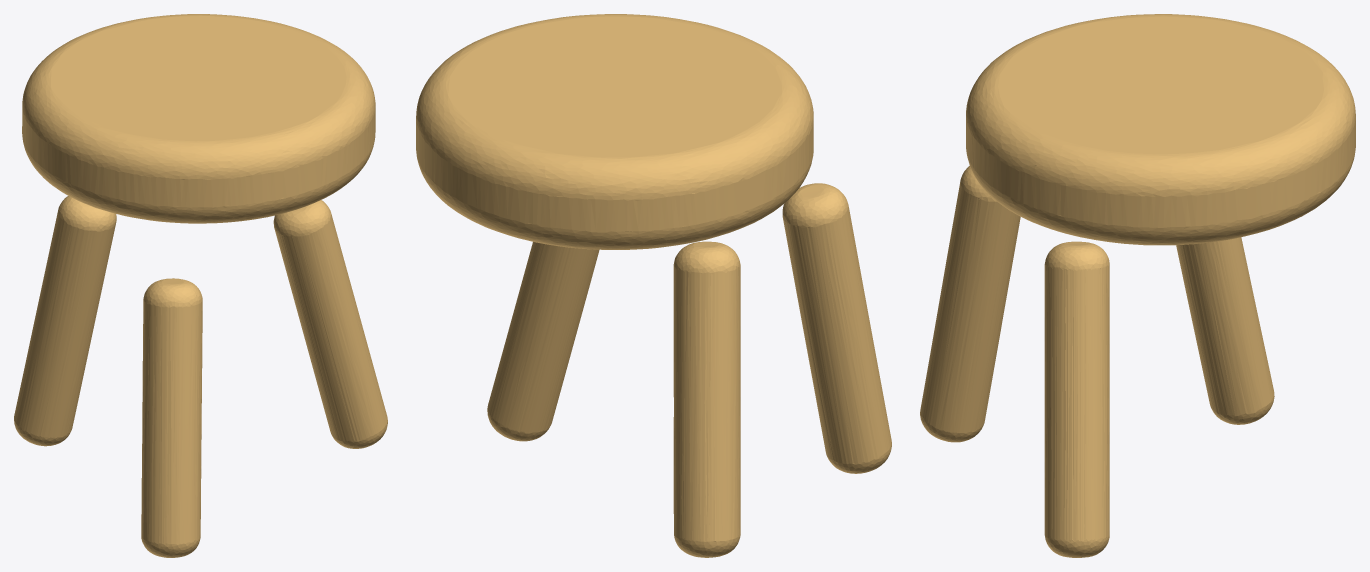
File: hocker.glb
The picture shows the model from 3 angles, left to right: view 1: azimuth 30°, elevation 25°; view 2: azimuth 150°, elevation 25°; view 3: azimuth 270°, elevation 25°; orthographic projection. The views are drawn at different scales.
Visible parts, largest first — view 1: 282312_23_05_24_17_42_47_1; view 2: 282312_23_05_24_17_42_47_1; view 3: 282312_23_05_24_17_42_47_1.
Part boxes in pixels (x1,y1,x2,y2): 282312_23_05_24_17_42_47_1: [14, 14, 387, 557]; 282312_23_05_24_17_42_47_1: [416, 14, 891, 557]; 282312_23_05_24_17_42_47_1: [920, 14, 1355, 557].
Size of the model in its own units: 2.05 by 2.42 by 2.29.
1 material, 1 textured.
